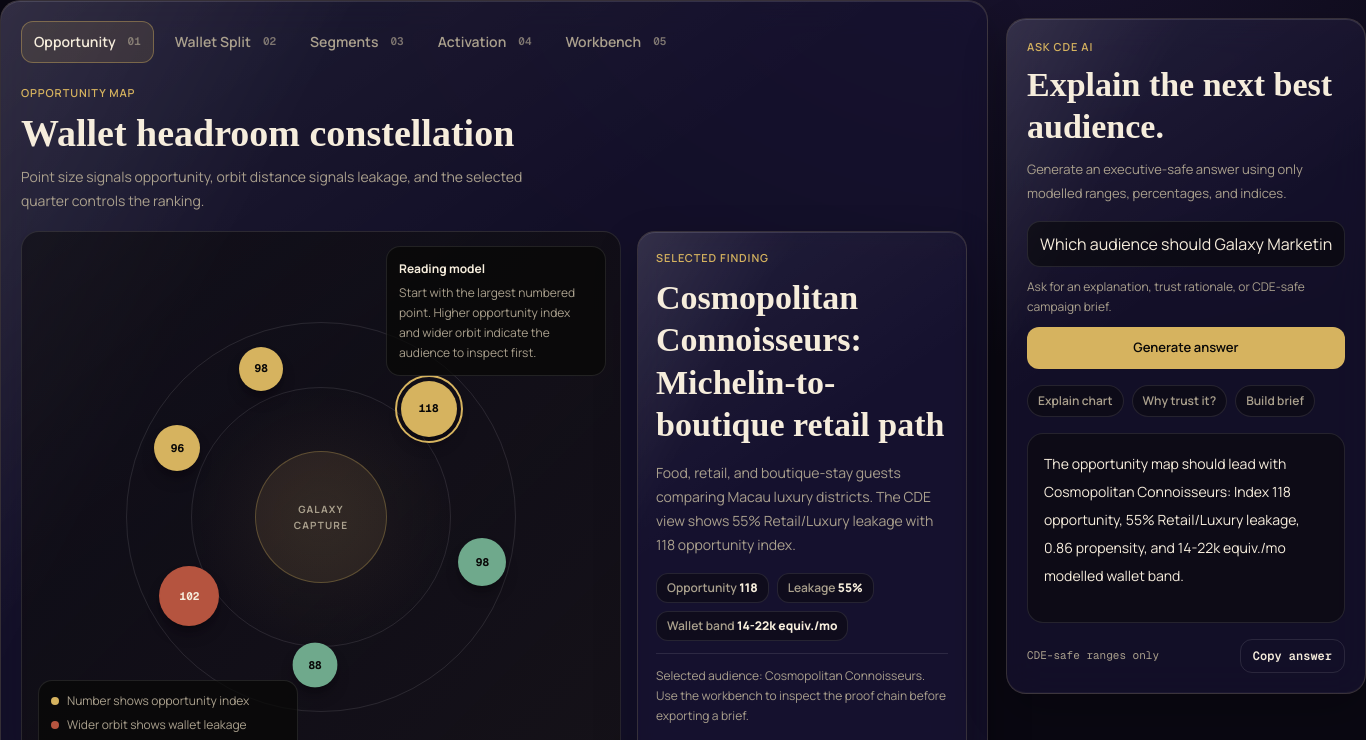
Test: DecisionWorkspace › validates assistant prompts and supports deterministic quick prompts
Clear the field named "CDE assistant prompt". click: (1186, 244)
box: [1027,220,1345,266]
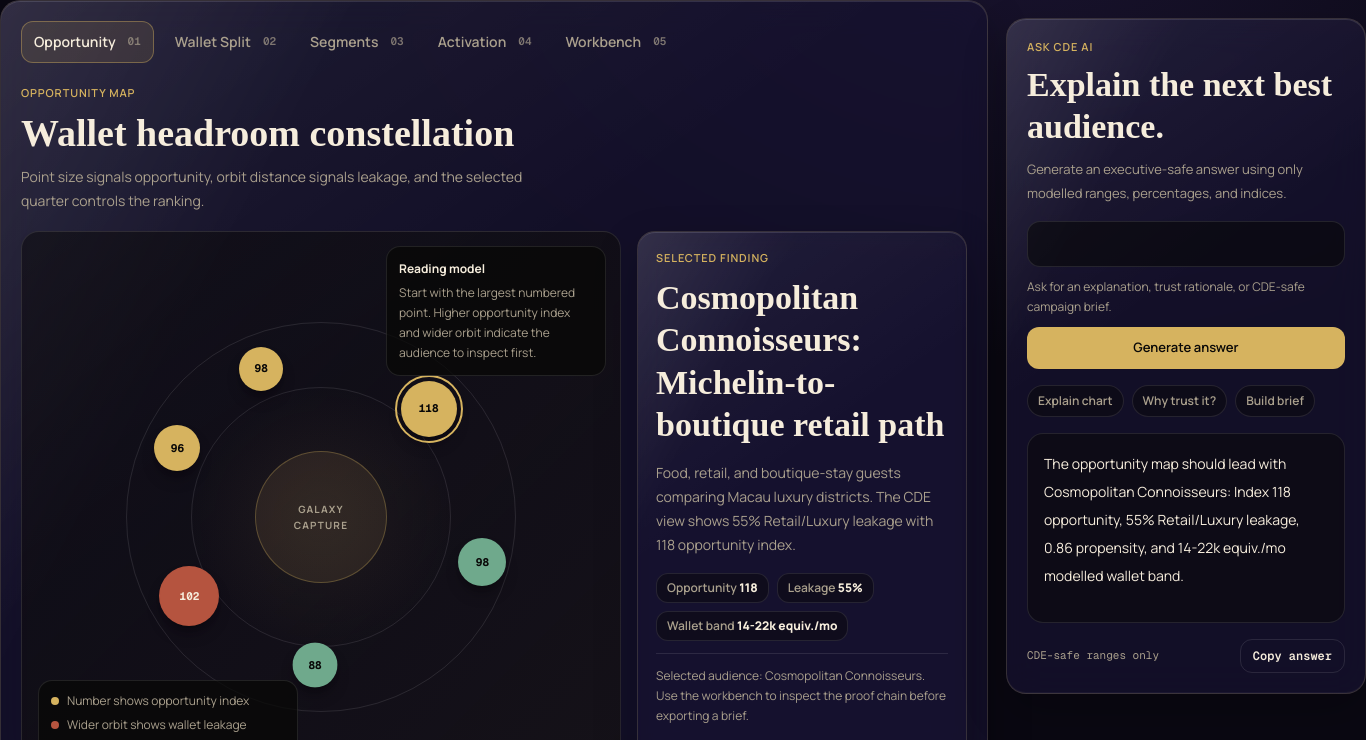
Click the button "Generate answer". click: (1186, 348)
box: [1027,326,1345,368]
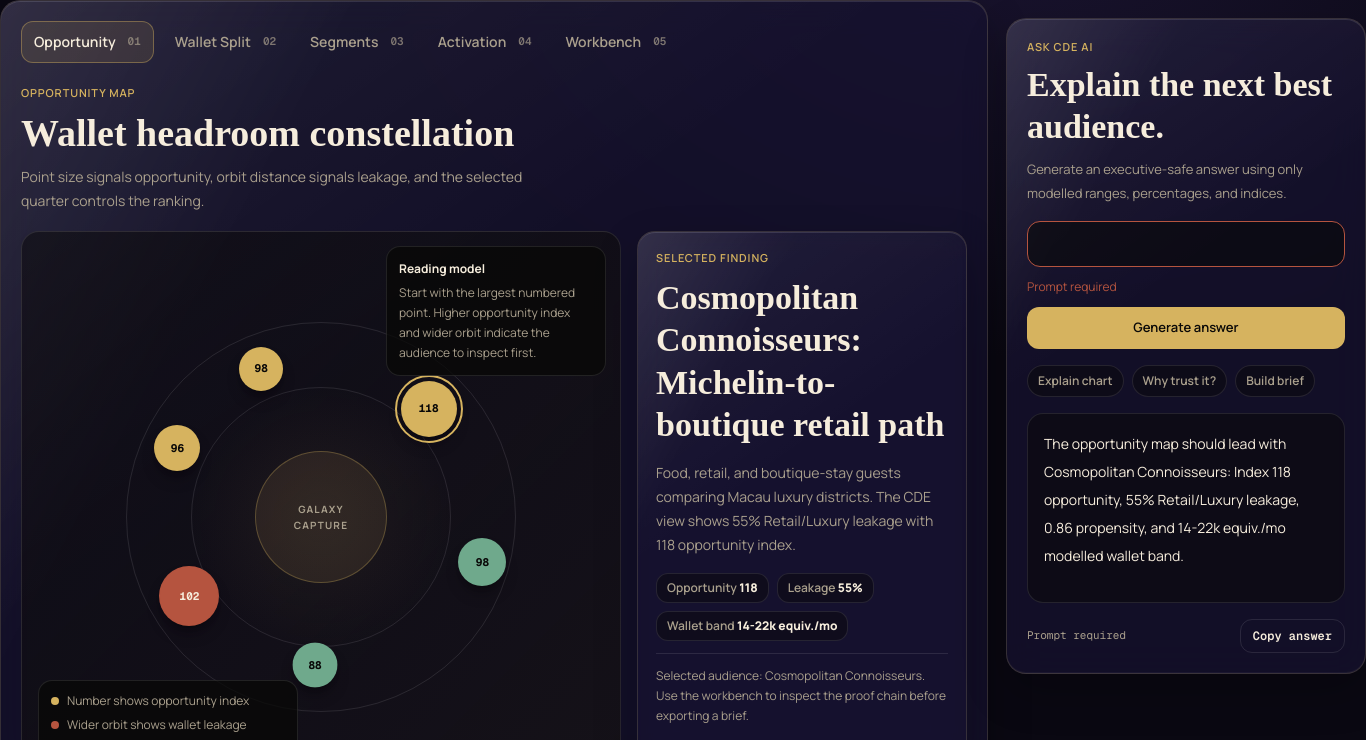
Check: the element labelled "Ask CDE AI" shows "Prompt required", box [1027,278,1117,294]
Click the button "Why trust it?". click: (1179, 380)
box: [1132,364,1227,396]
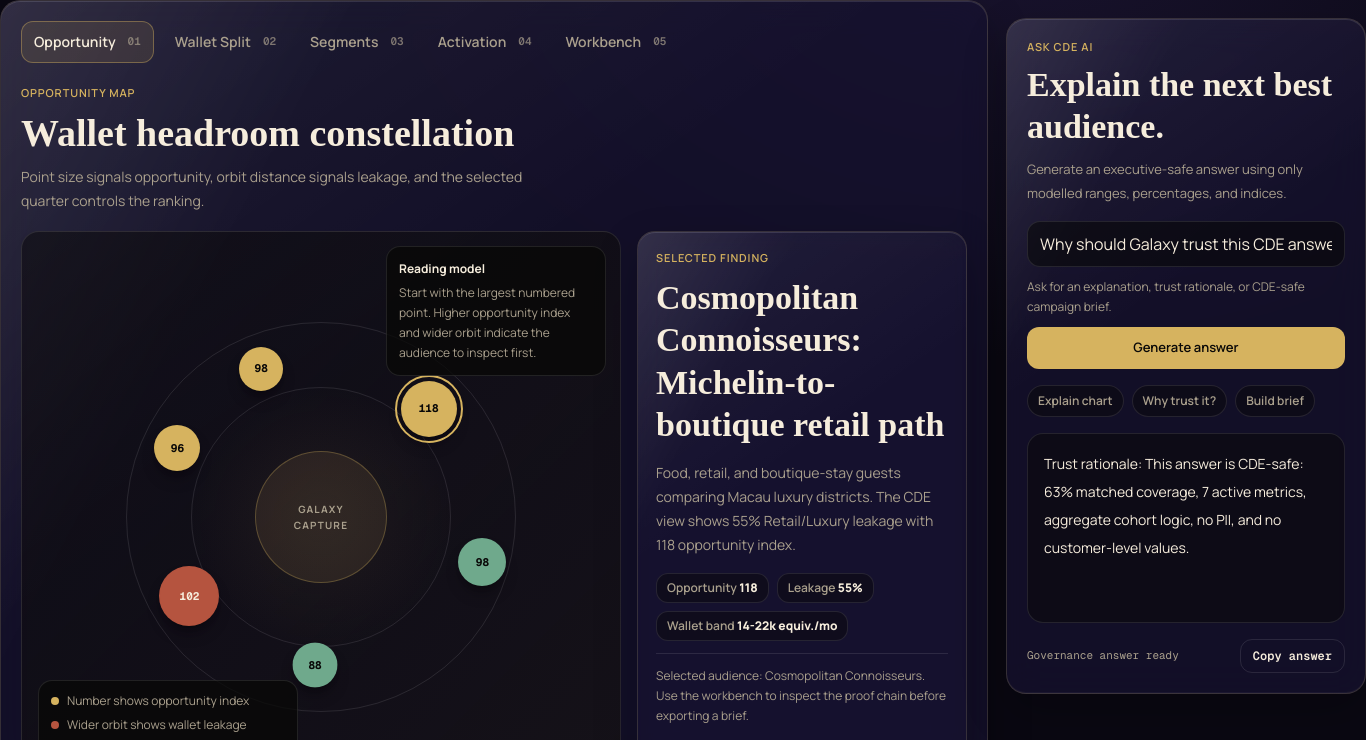
Check: the field named "CDE assistant prompt" holds "Why should Galaxy trust this CDE answer?", box [1027,220,1345,266]
Check: the element labelled "Ask CDE AI" shows "Trust rationale", box [1027,278,1305,314]
Check: the element labelled "Ask CDE AI" shows "Governance answer ready", box [1027,648,1179,662]
